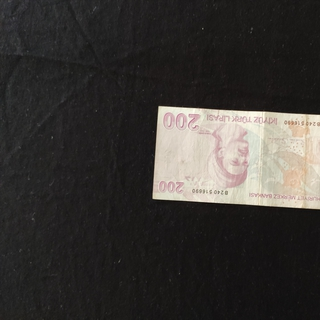200TLBack: (152, 105, 320, 212)
